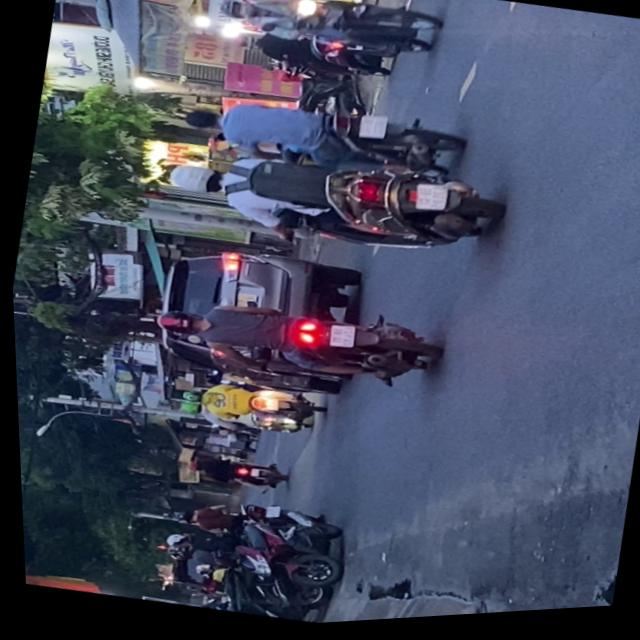helmet: (163, 159, 224, 200), (150, 306, 201, 339), (210, 0, 255, 23)
licenseplate: (154, 123, 510, 287), (144, 276, 443, 408), (173, 73, 468, 203), (205, 0, 446, 74), (225, 18, 398, 95)
motorcyclist: (180, 104, 223, 135)
nohelmet: (411, 185, 447, 218), (357, 116, 387, 144), (323, 325, 353, 352)
